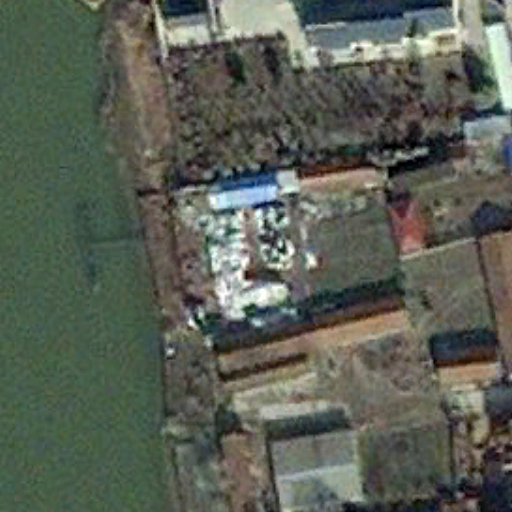msw: (201, 199, 297, 322)
